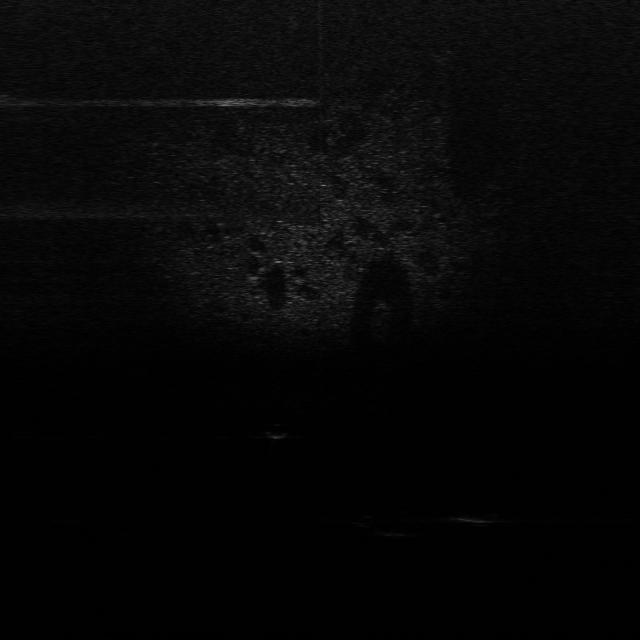ball: (262, 419, 290, 441)
metal bucket: (442, 505, 503, 530)
tyre: (364, 510, 424, 541)
